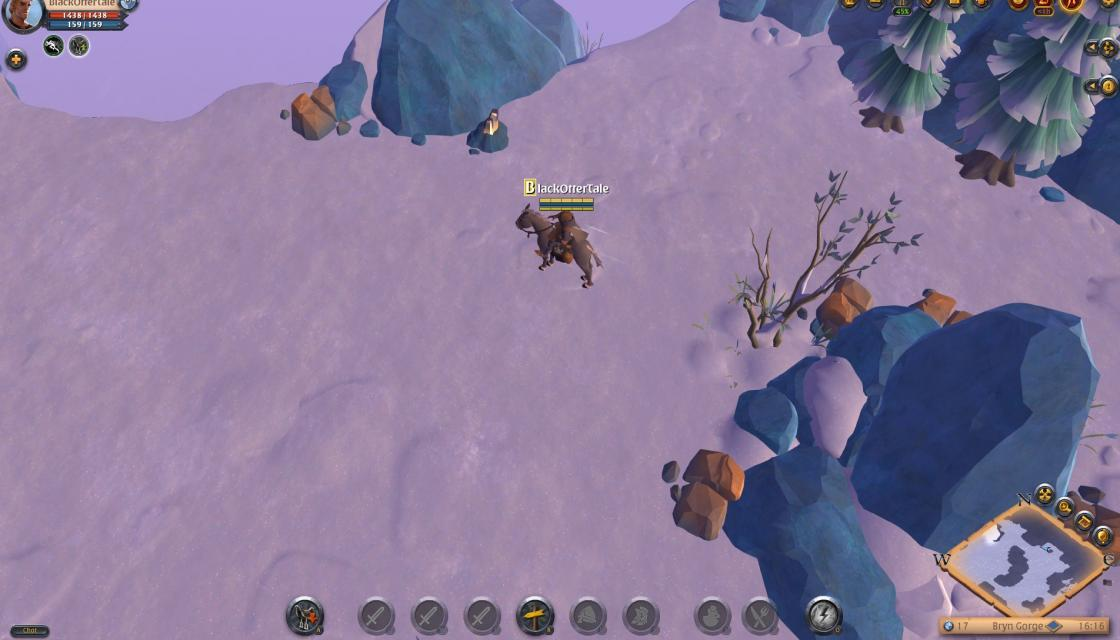copperore: (456, 106, 526, 154)
limestone: (664, 448, 744, 538), (1060, 488, 1120, 564), (805, 271, 876, 333), (286, 80, 344, 148), (911, 283, 975, 334)
